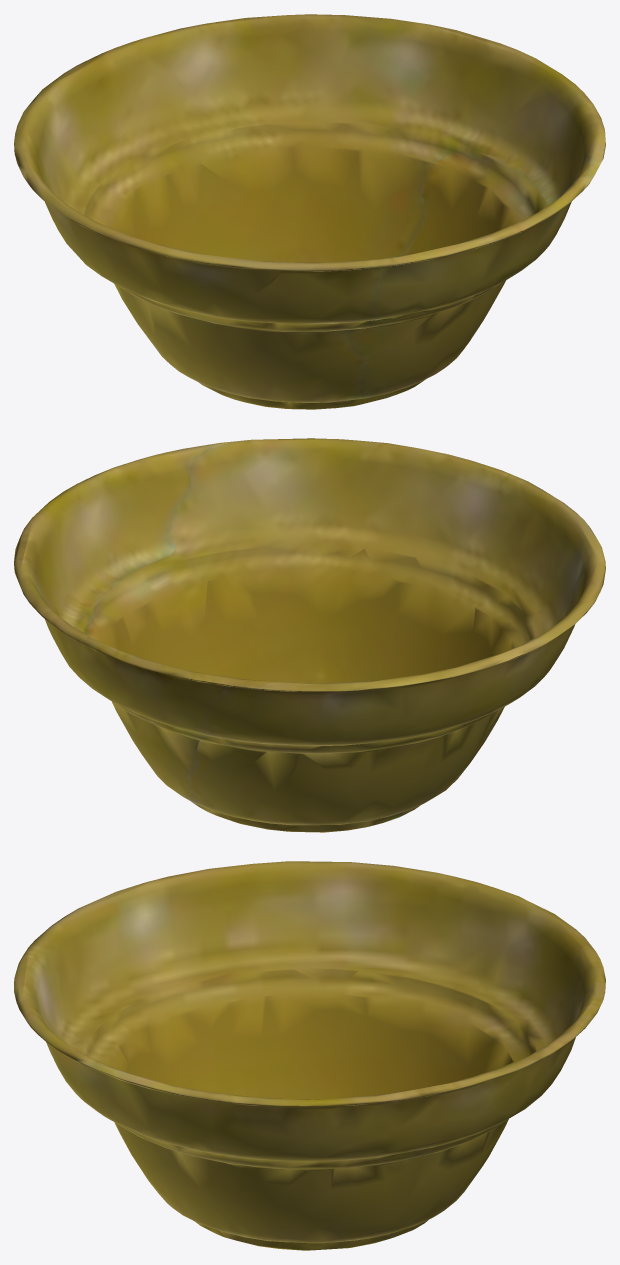
Rendered from Ecoforms_Plant_Bowl_Atlas_Low-high.glb.
3 renders of one model, top to bottom at view 1: azimuth 30°, elevation 25°; view 2: azimuth 150°, elevation 25°; view 3: azimuth 270°, elevation 25°, orthographic.
Parts seen in each view (by area): view 1: Ecoforms_Plant_Bowl_Atlas_Low; view 2: Ecoforms_Plant_Bowl_Atlas_Low; view 3: Ecoforms_Plant_Bowl_Atlas_Low.
Boxes of the visible parts, left/top/right/bottom form: Ecoforms_Plant_Bowl_Atlas_Low: left=14, top=14, right=605, bottom=409; Ecoforms_Plant_Bowl_Atlas_Low: left=14, top=438, right=605, bottom=832; Ecoforms_Plant_Bowl_Atlas_Low: left=14, top=861, right=605, bottom=1250.
Bounding box in the file's own units: 0.3217 × 0.1342 × 0.322.
1 material, 1 textured.
